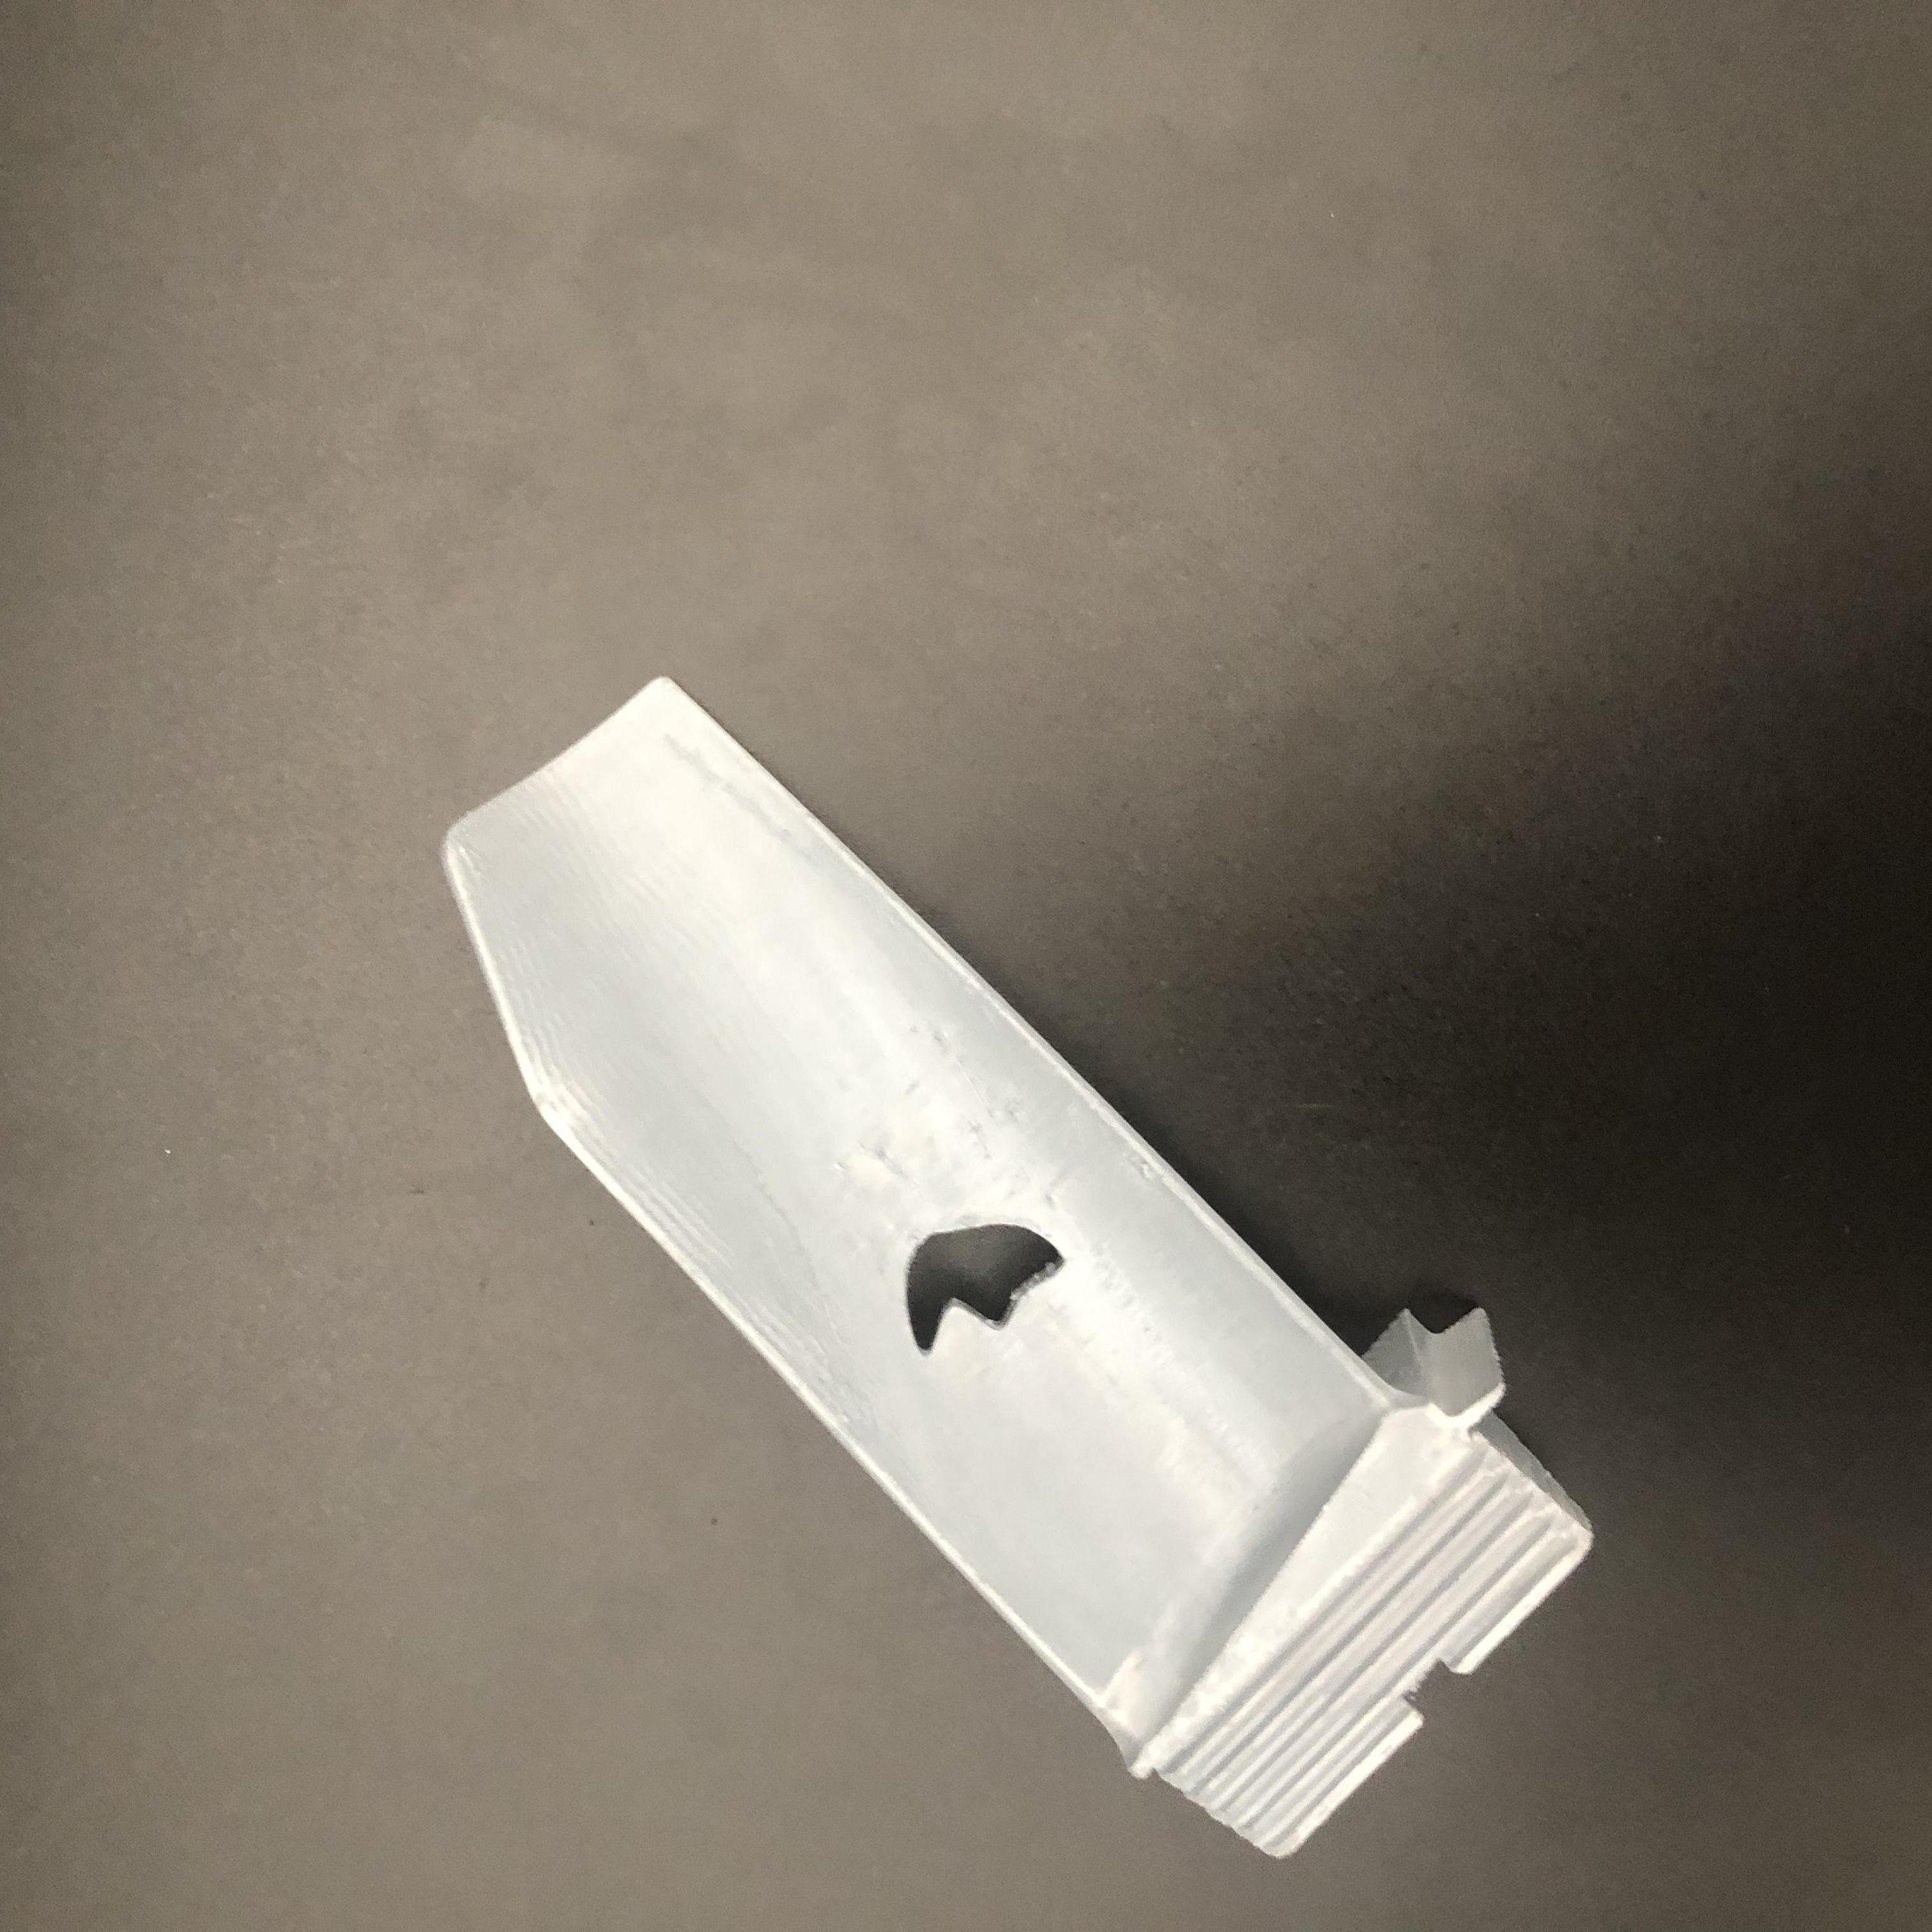breakdown: (879, 1210, 1072, 1361)
